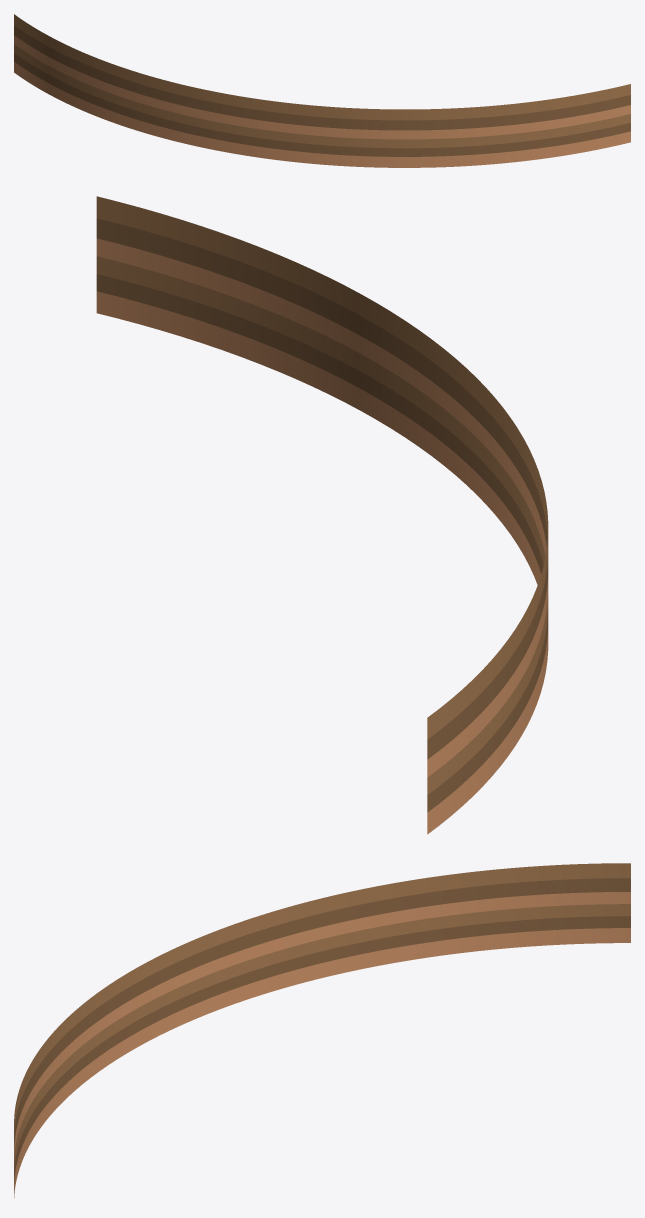
Rendered from platform_grass_corner_round7_center_tall.gltf.
3 renders of one model, top to bottom at view 1: azimuth 30°, elevation 25°; view 2: azimuth 150°, elevation 25°; view 3: azimuth 270°, elevation 25°, orthographic. The views are drawn at different scales.
Parts seen in each view (by area): view 1: Cube_Grass_Corner_Round7Center_Tall; view 2: Cube_Grass_Corner_Round7Center_Tall; view 3: Cube_Grass_Corner_Round7Center_Tall.
Boxes of the visible parts, <box> form: Cube_Grass_Corner_Round7Center_Tall: <box>14,14,630,167</box>; Cube_Grass_Corner_Round7Center_Tall: <box>96,196,548,834</box>; Cube_Grass_Corner_Round7Center_Tall: <box>14,863,630,1198</box>.
Size of the model in its own units: 14 by 2 by 14.
